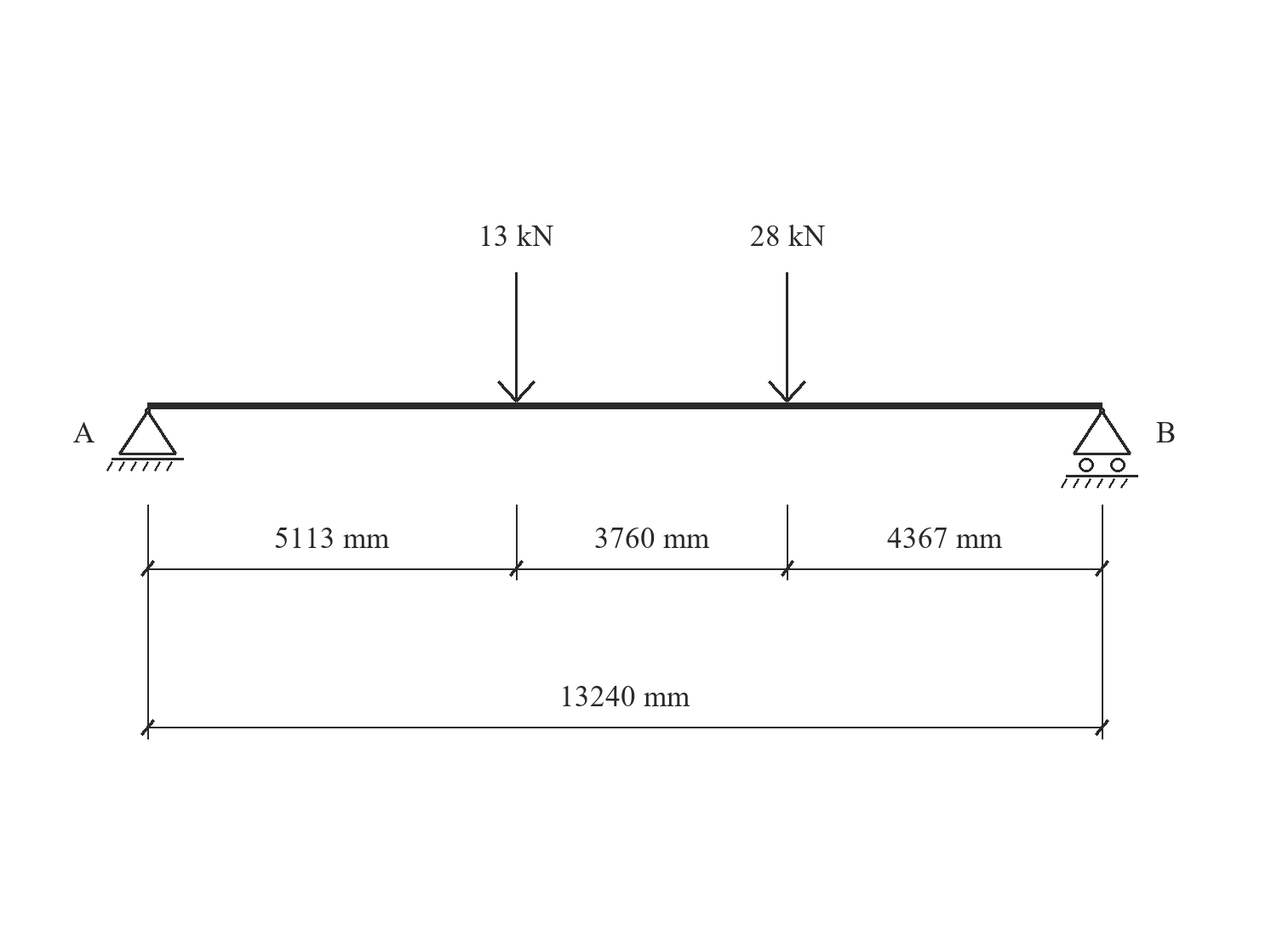pin_support: (106, 408, 184, 471)
point_load: (497, 272, 535, 402), (768, 272, 806, 402)
roller_support: (1061, 408, 1138, 488)
